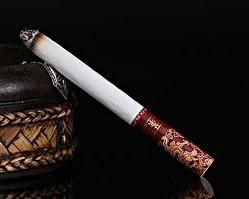smoke: (18, 26, 216, 179)
